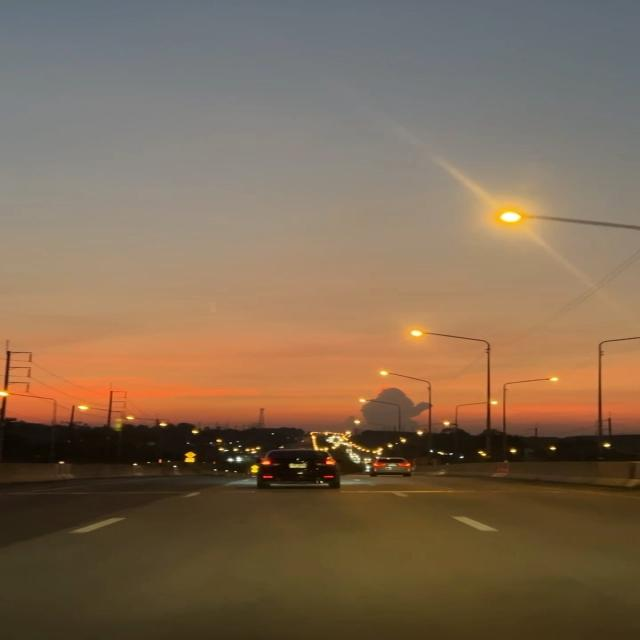Poth-hole: (137, 490, 604, 622)
